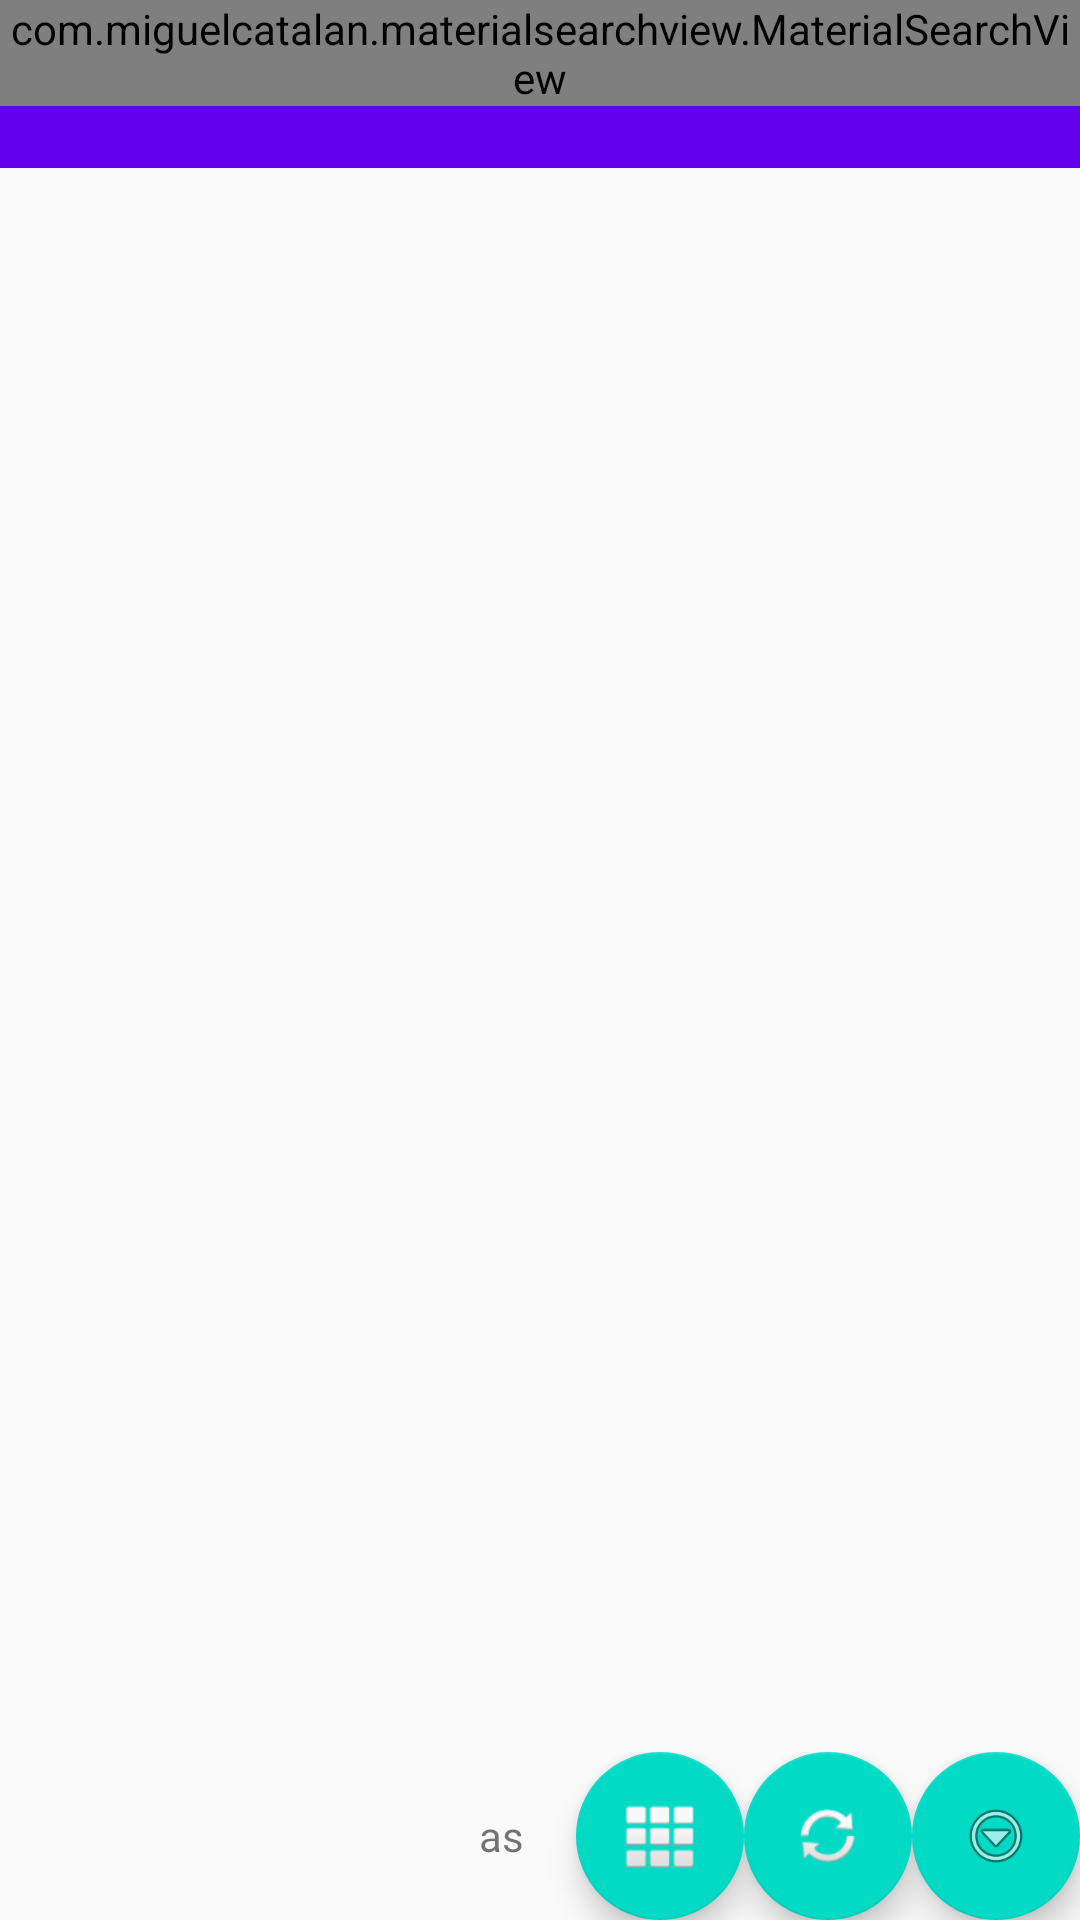

Icons on this 1080px×1920px Android screen, each with its box as {"left": x1, "top": y1, "right": x2, "bottom": y2}:
dialer: {"left": 576, "top": 1752, "right": 744, "bottom": 1920}
more: {"left": 912, "top": 1752, "right": 1080, "bottom": 1920}
popup sync: {"left": 744, "top": 1752, "right": 912, "bottom": 1920}
